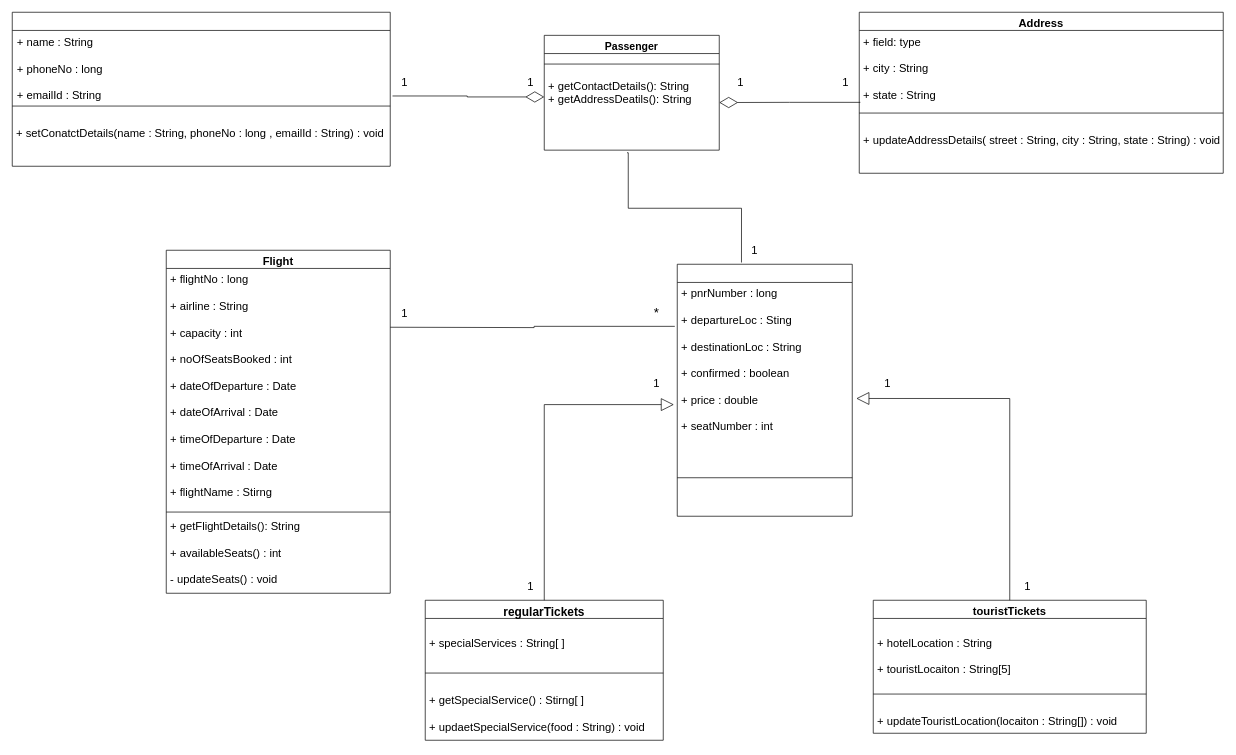
Some shapes in this 1236 by 755 pixel diagram are drawn without their labels. The box of each missing label's shape, as (x1, y1, x2, y2) in pixels:
Contact: (12, 12, 390, 166)
Tickets: (677, 264, 852, 516)
